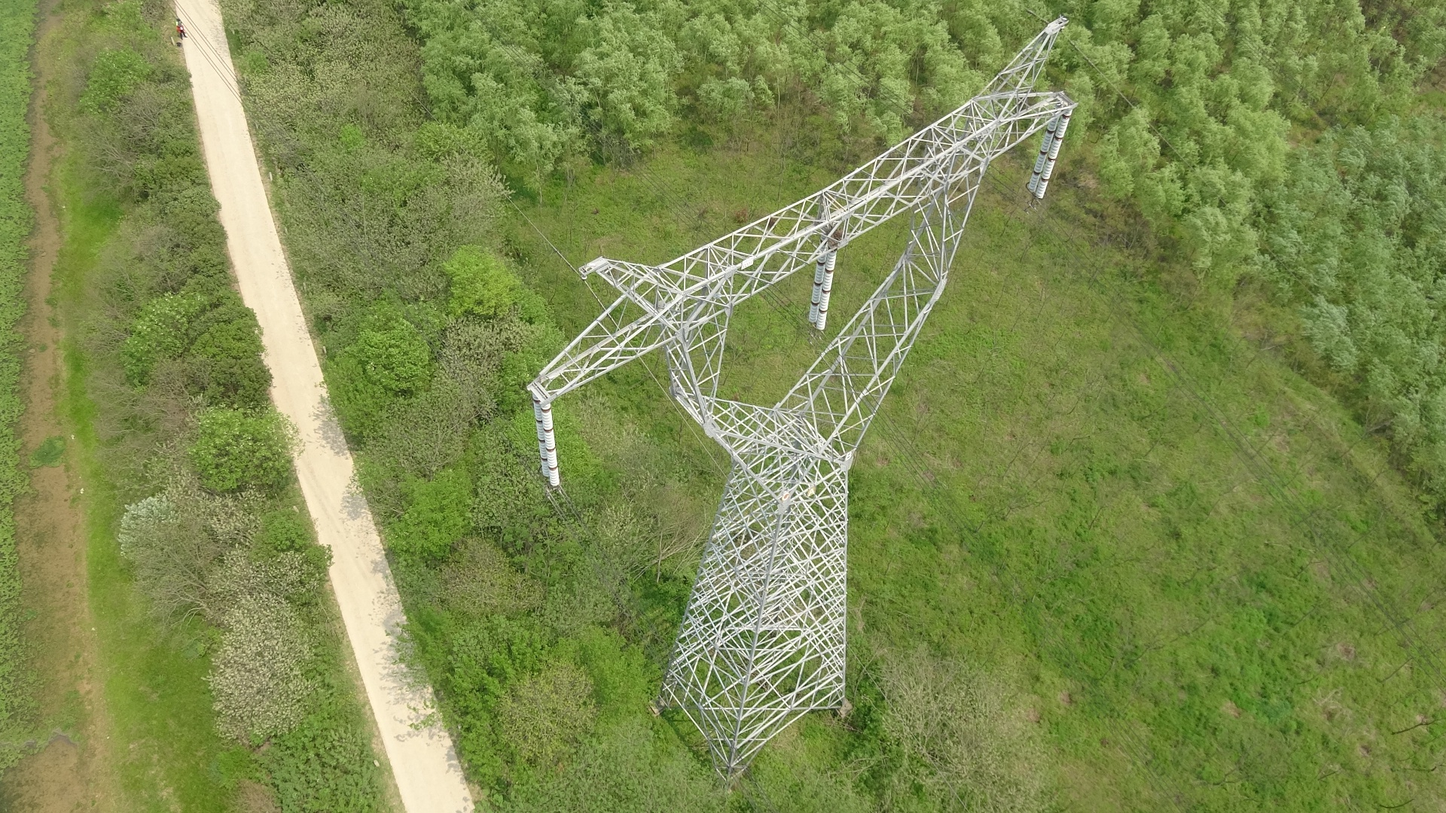insulator: (1027, 106, 1075, 201), (529, 388, 562, 489), (806, 239, 840, 333)
